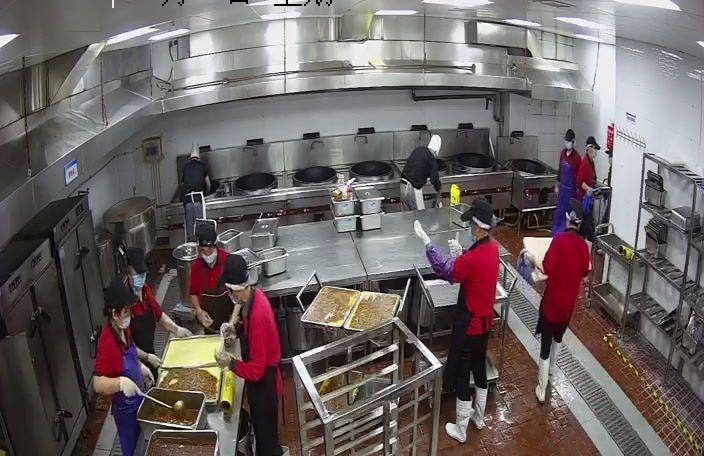mask: (204, 248, 216, 264)
